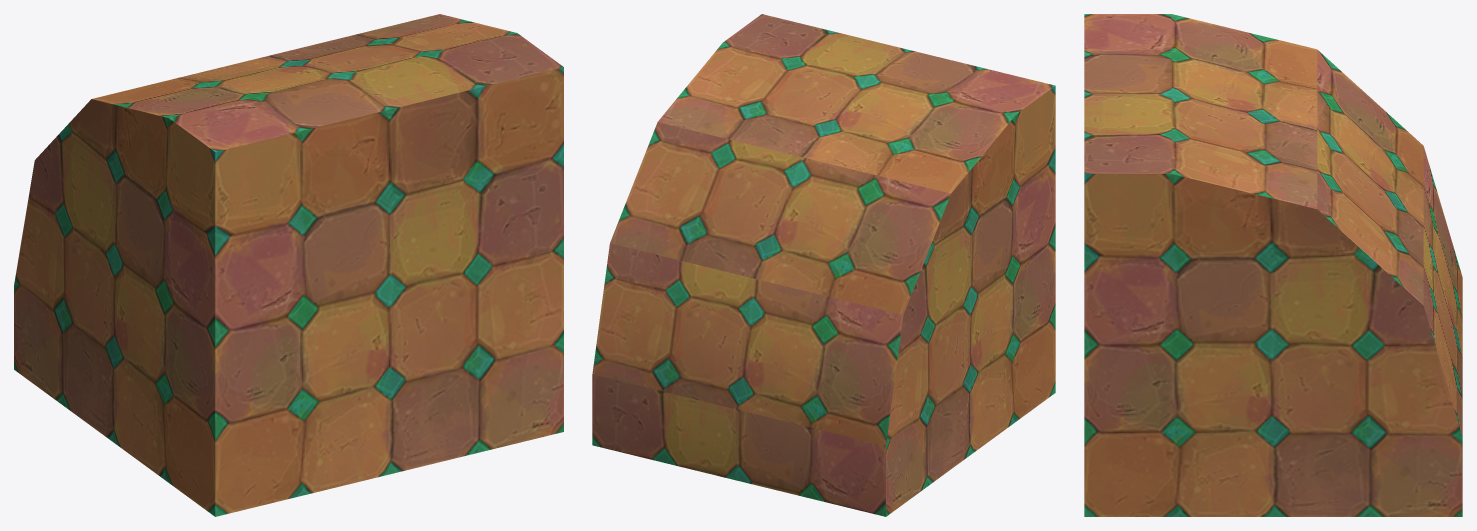
The model's file is POL0410011.fbx.
The picture shows the model from 3 angles, left to right: view 1: azimuth 30°, elevation 25°; view 2: azimuth 150°, elevation 25°; view 3: azimuth 270°, elevation 25°; orthographic projection. The views are drawn at different scales.
Parts seen in each view (by area): view 1: smPOL0410011; view 2: smPOL0410011; view 3: smPOL0410011.
Boxes of the visible parts, x1,y1,x2,y2 form: smPOL0410011: (14, 14, 563, 516); smPOL0410011: (592, 14, 1055, 516); smPOL0410011: (1084, 14, 1462, 516).
Bounding box in the file's own units: 161 × 161 × 161.
1 material, 1 textured.
